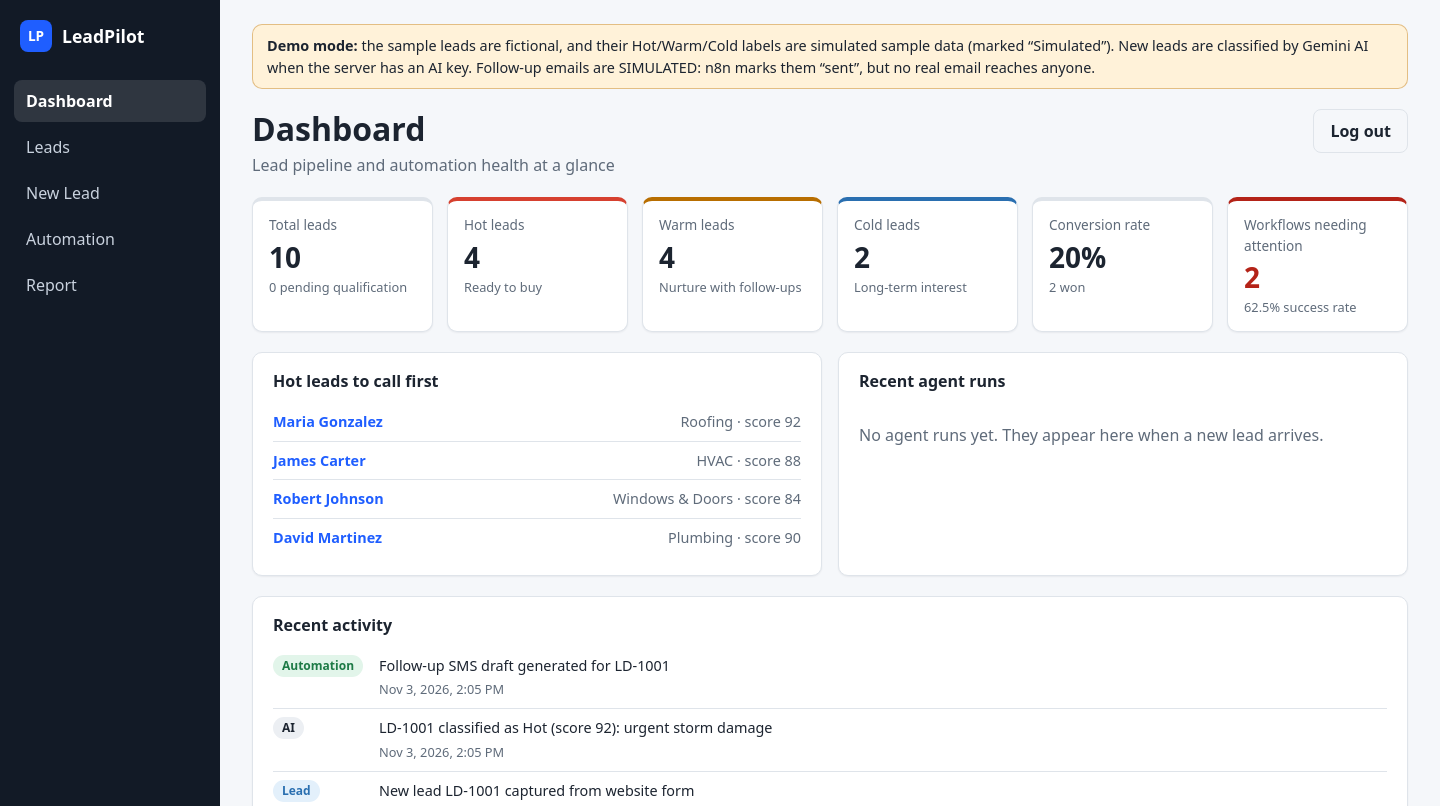
Test: operational report › the meter warns when the quota is almost used up
expect the heading "Hot leads to call first" is shown: met, box x1=273 y1=370 x2=438 y2=392
Click the button "Report": (110, 285) x1=14 y1=264 x2=206 y2=306
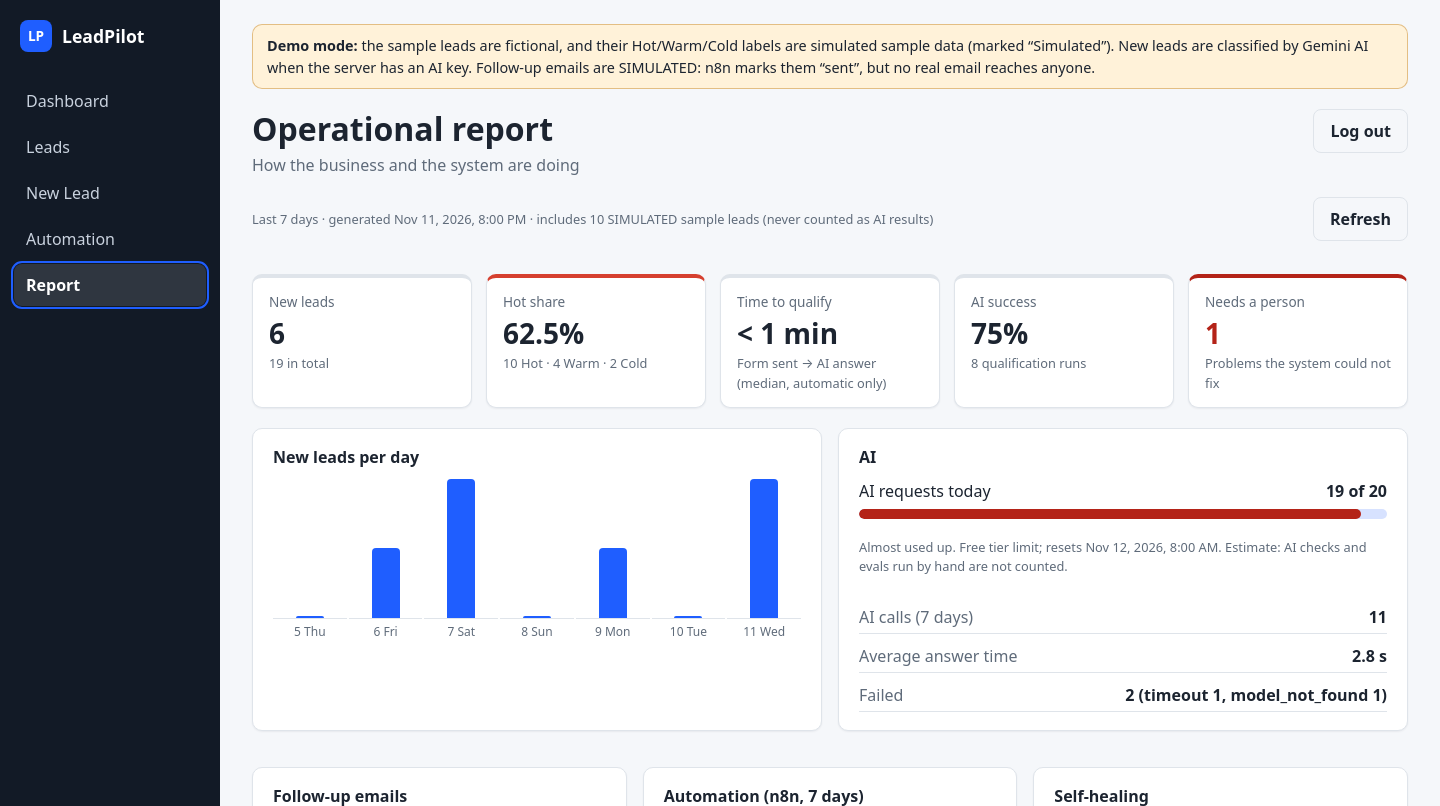
expect the element named "Key numbers" is shown: met, box x1=252 y1=274 x2=1408 y2=408
expect the text "Almost used up" is shown: met, box x1=859 y1=538 x2=959 y2=556
